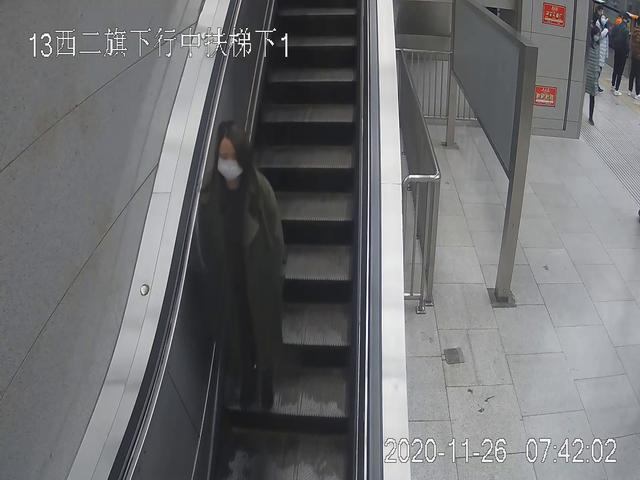person: (197, 120, 288, 420), (611, 12, 627, 96)
